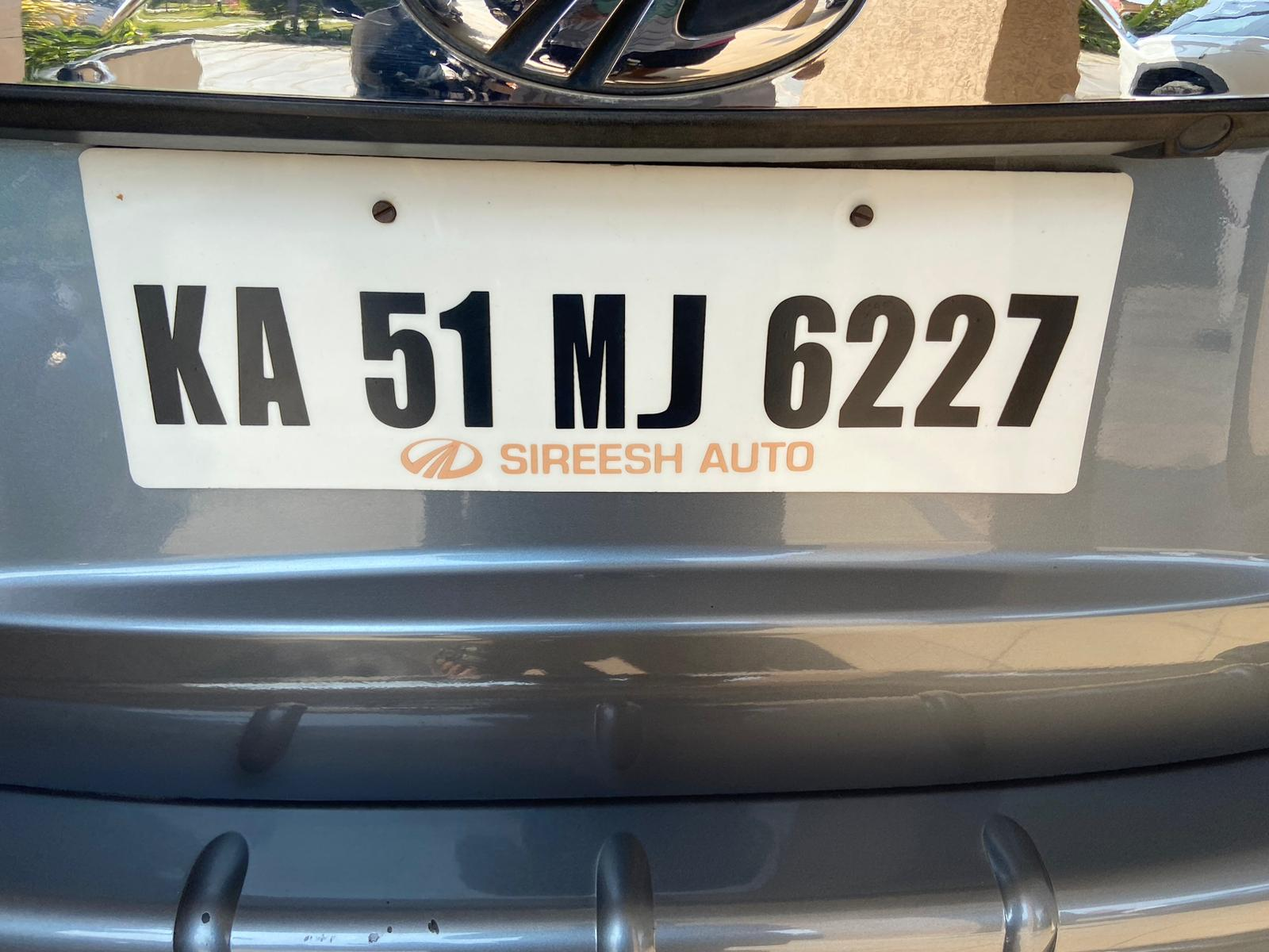1: (441, 276, 509, 437)
2: (843, 284, 921, 438), (924, 292, 997, 440)
5: (351, 272, 440, 432)
6: (758, 276, 835, 441)
7: (1000, 280, 1081, 446)
A: (226, 268, 314, 438)
J: (633, 274, 716, 435)
K: (123, 264, 225, 440)
M: (538, 276, 631, 437)
